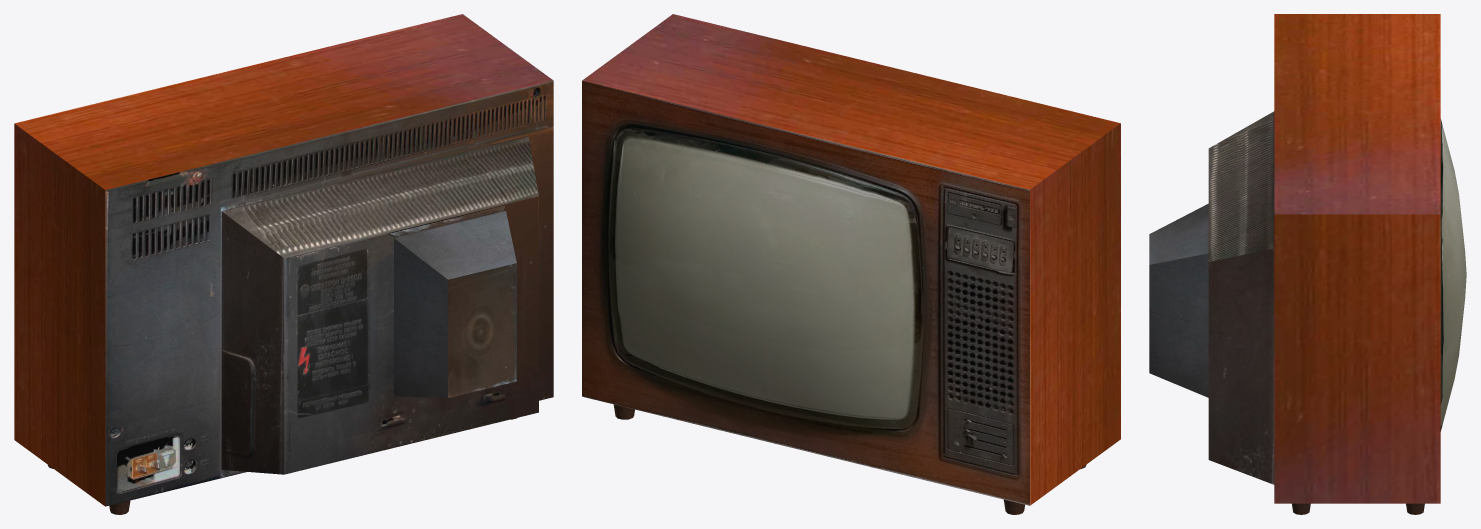
The picture shows the model from 3 angles, left to right: view 1: azimuth 30°, elevation 25°; view 2: azimuth 150°, elevation 25°; view 3: azimuth 270°, elevation 25°; orthographic projection. The views are drawn at different scales.
Visible parts, largest first — view 1: Cube.014; view 2: Cube.014; view 3: Cube.014.
Boxes of the visible parts, x1,y1,x2,y2 form: Cube.014: (14, 14, 553, 514); Cube.014: (582, 14, 1120, 514); Cube.014: (1149, 14, 1466, 514).
Size of the model in its own units: 128 by 92.59 by 85.89.
Materials: 1 (1 with a texture image).
